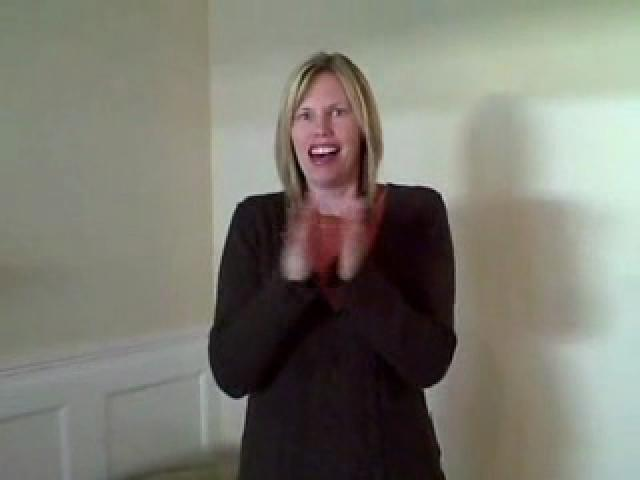F: (182, 41, 466, 471)
